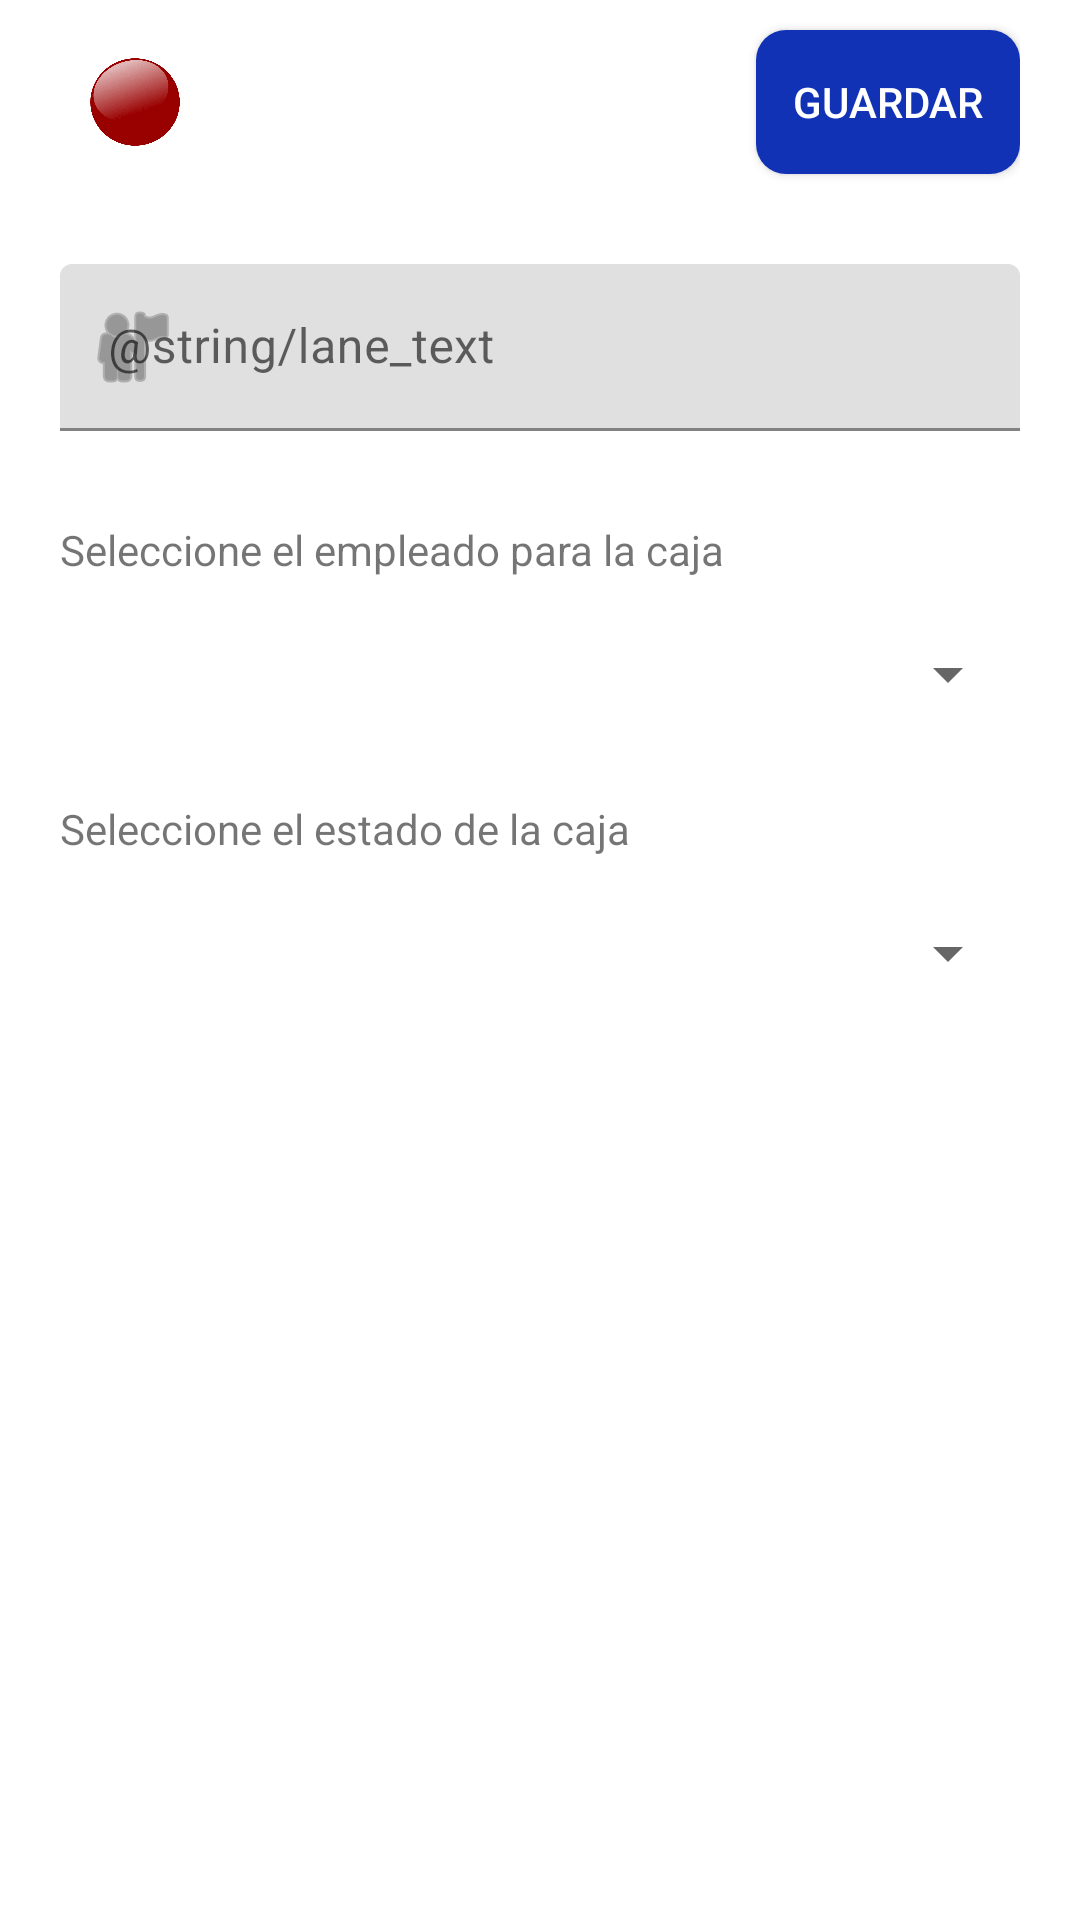

Where icons sit on this 1080 × 1920 app screen, as (x1, y1, x2, y2):
dot: (90, 58, 180, 146)
